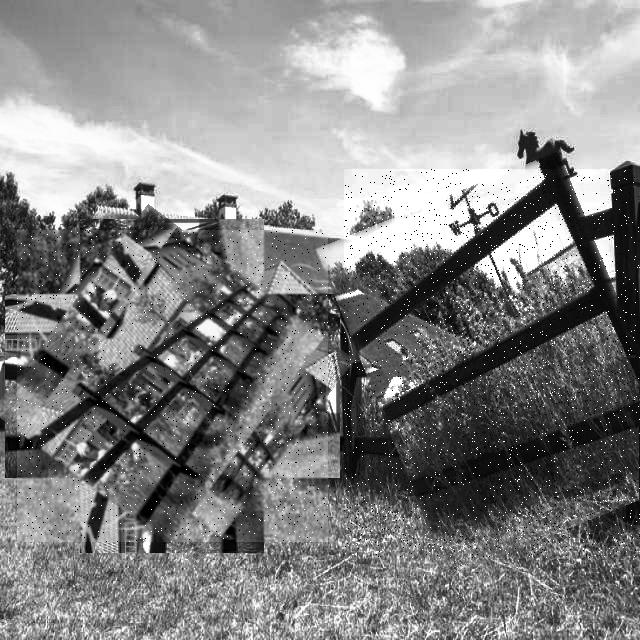fences: (344, 169, 640, 558), (17, 230, 328, 542)
